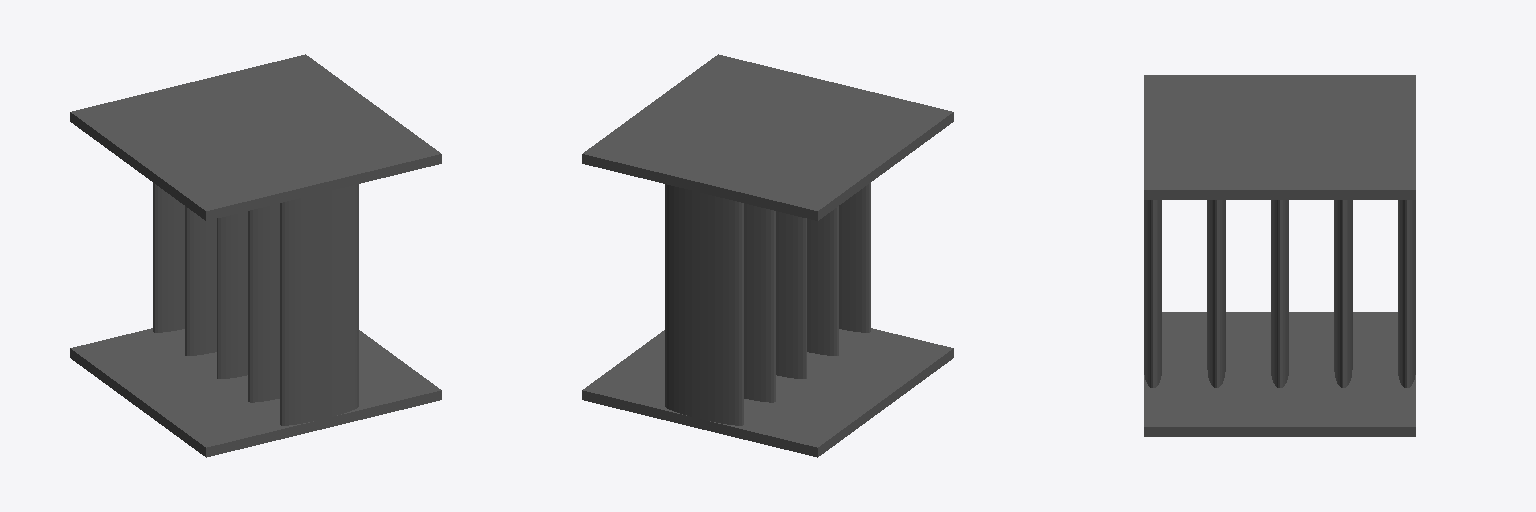
3 views of the same model, side by side, from view 1: azimuth 30°, elevation 25°; view 2: azimuth 150°, elevation 25°; view 3: azimuth 270°, elevation 25° (orthographic).
Parts seen in each view (by area): view 1: 円柱; view 2: 円柱; view 3: 円柱.
Boxes of the visible parts, x1,y1,x2,y2 form: 円柱: [70, 54, 441, 457]; 円柱: [582, 54, 953, 457]; 円柱: [1144, 75, 1415, 436].
Size of the model in its own units: 2 by 2 by 2.
1 materials, 1 textured.